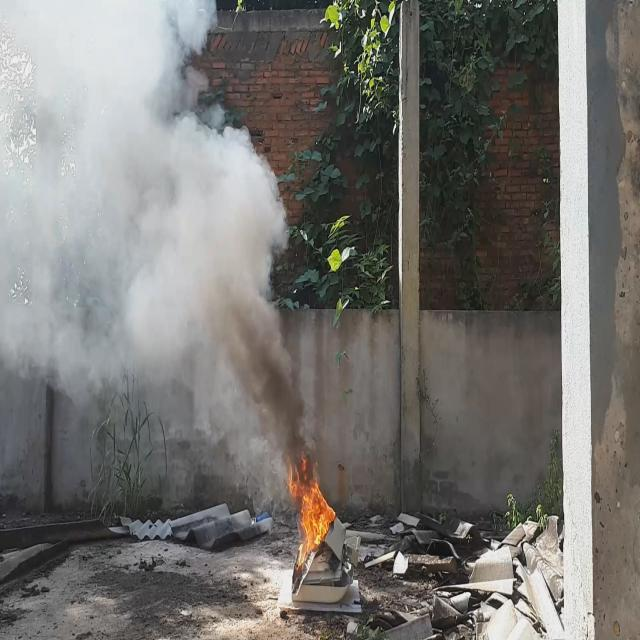Fire: (285, 448, 337, 566)
Smoke: (0, 0, 324, 515)
